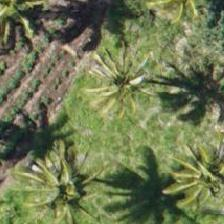coconut_tree: (75, 44, 165, 134), (19, 142, 109, 223), (160, 128, 223, 218)
